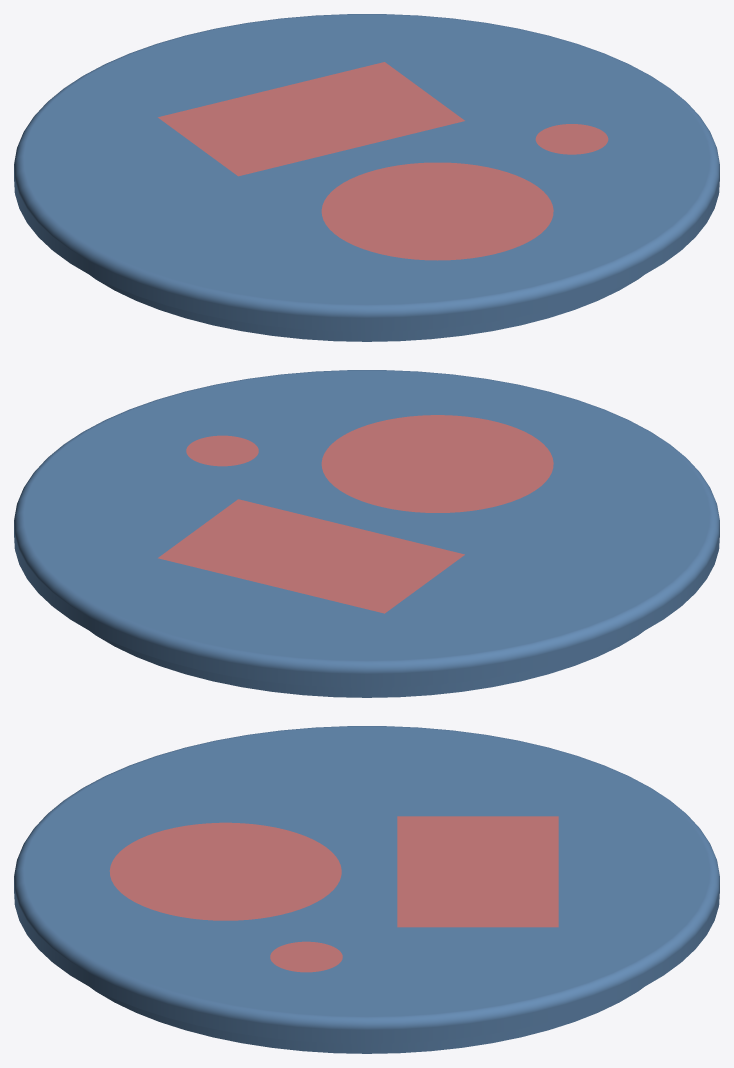
File: step_03.glb
The picture shows the model from 3 angles, top to bottom: view 1: azimuth 30°, elevation 25°; view 2: azimuth 150°, elevation 25°; view 3: azimuth 270°, elevation 25°; orthographic projection.
Parts seen in each view (by area): view 1: part__pod cap, removed__pod cap; view 2: part__pod cap, removed__pod cap; view 3: part__pod cap, removed__pod cap.
Boxes of the visible parts, x1,y1,x2,y2 form: part__pod cap: (14,14,719,341); removed__pod cap: (158,62,608,260); part__pod cap: (14,370,719,697); removed__pod cap: (158,415,553,613); part__pod cap: (14,726,719,1053); removed__pod cap: (109,816,558,972).
Size of the model in its own units: 69.96 by 5 by 69.98.
